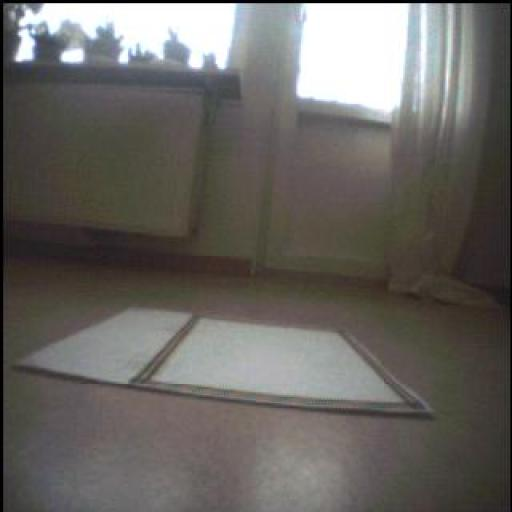Pad: (19, 310, 433, 415)
